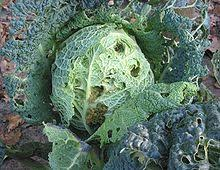cabbage: (49, 27, 155, 125)
